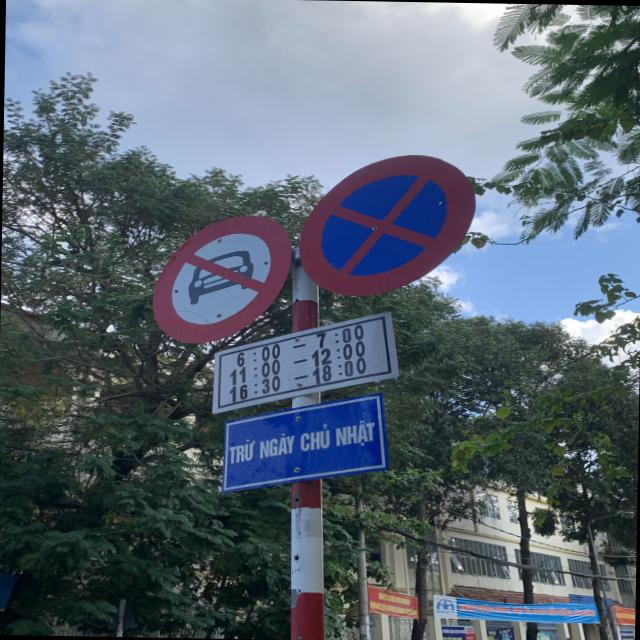Cam_Dung_Va_Dau_Xe: (297, 152, 478, 298)
Cam_O_To: (152, 212, 291, 344)
